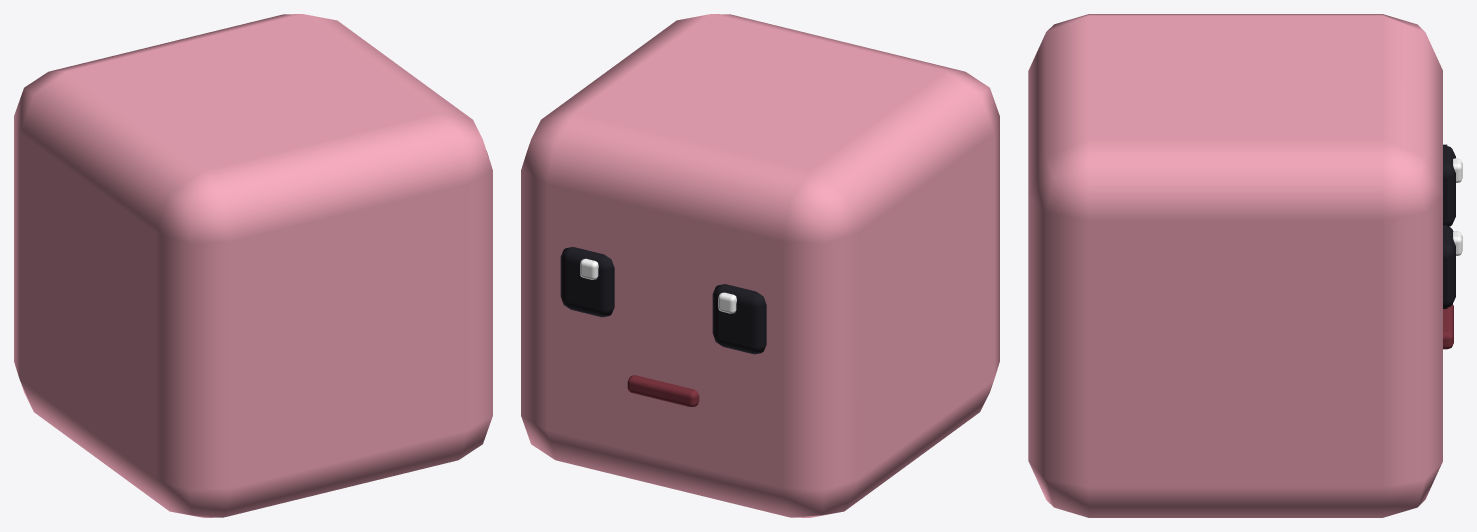
The model's file is worm_head_block.glb.
The picture shows the model from 3 angles, left to right: view 1: azimuth 30°, elevation 25°; view 2: azimuth 150°, elevation 25°; view 3: azimuth 270°, elevation 25°; orthographic projection. The views are drawn at different scales.
Parts seen in each view (by area): view 1: worm_head_block; view 2: worm_head_block; view 3: worm_head_block.
Part boxes in pixels (x1,y1,x2,y2): worm_head_block: (14,14,492,517); worm_head_block: (521,14,999,517); worm_head_block: (1028,14,1462,517).
Size of the model in its own units: 0.96 by 0.96 by 1.
